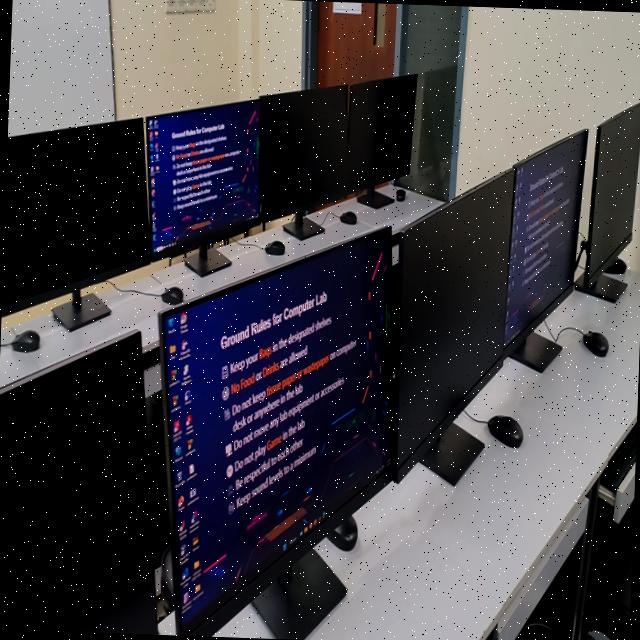Chair: (584, 508, 634, 640), (160, 543, 173, 611), (512, 623, 562, 640)
Keyboard: (599, 420, 637, 492), (141, 346, 157, 367)
Monitor: (158, 226, 390, 640), (0, 331, 156, 634), (391, 167, 513, 483), (0, 117, 150, 329), (145, 98, 260, 274), (503, 129, 586, 371), (258, 84, 346, 238), (573, 101, 640, 301), (346, 73, 415, 207)
Mouse: (485, 413, 522, 447), (326, 515, 356, 550), (582, 330, 607, 355), (10, 329, 38, 351), (160, 285, 182, 303), (603, 257, 625, 272), (264, 239, 283, 253), (339, 210, 355, 223), (394, 187, 404, 200)
